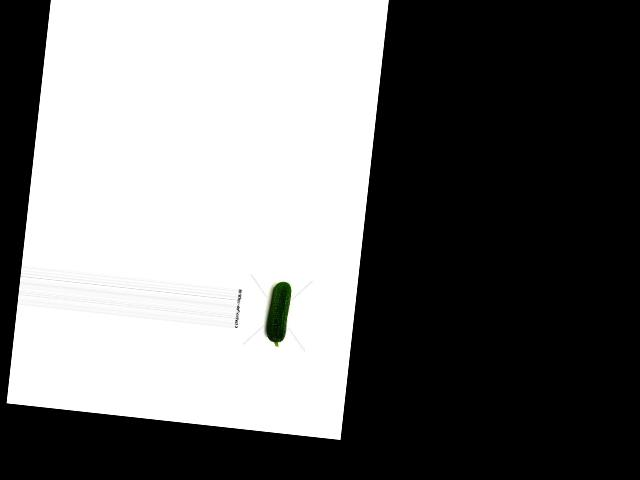cucumber: (264, 279, 292, 347)
